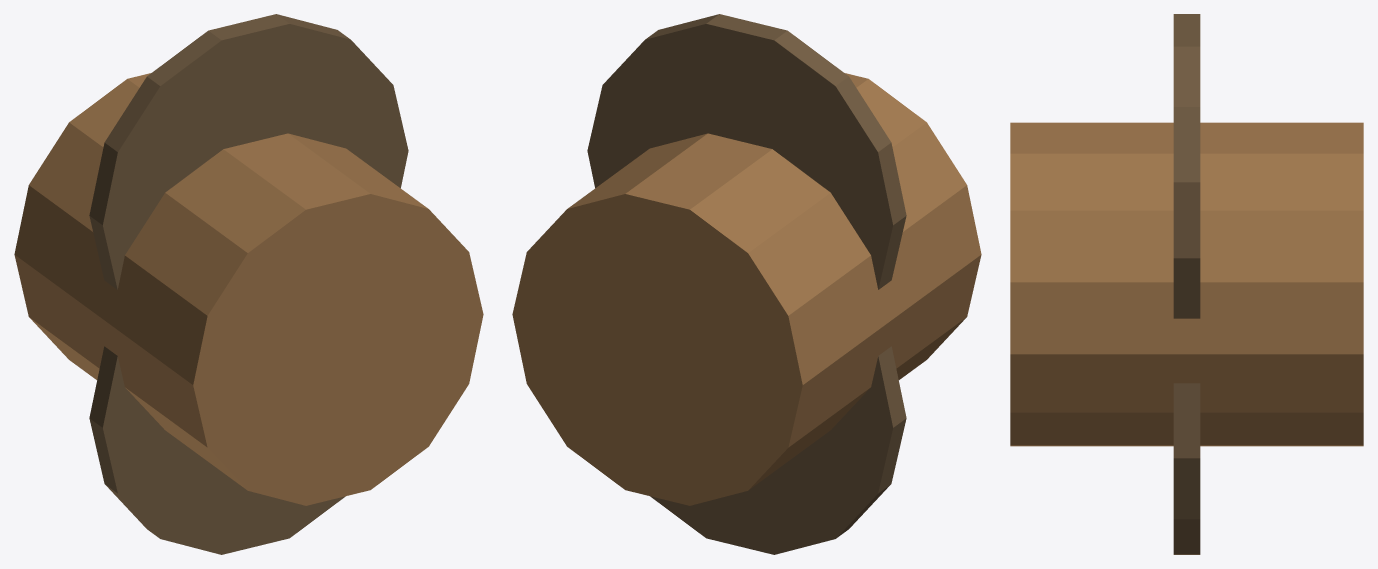
Rendered from barrel.glb.
The picture shows the model from 3 angles, left to right: view 1: azimuth 30°, elevation 25°; view 2: azimuth 150°, elevation 25°; view 3: azimuth 270°, elevation 25°; orthographic projection.
Parts seen in each view (by area): view 1: world; view 2: world; view 3: world.
Part boxes in pixels (<box>): world: <box>14,14,483,554</box>; world: <box>512,14,981,554</box>; world: <box>1010,14,1363,554</box>.
Bounding box in the file's own units: 1.58 × 2.54 × 1.6.
